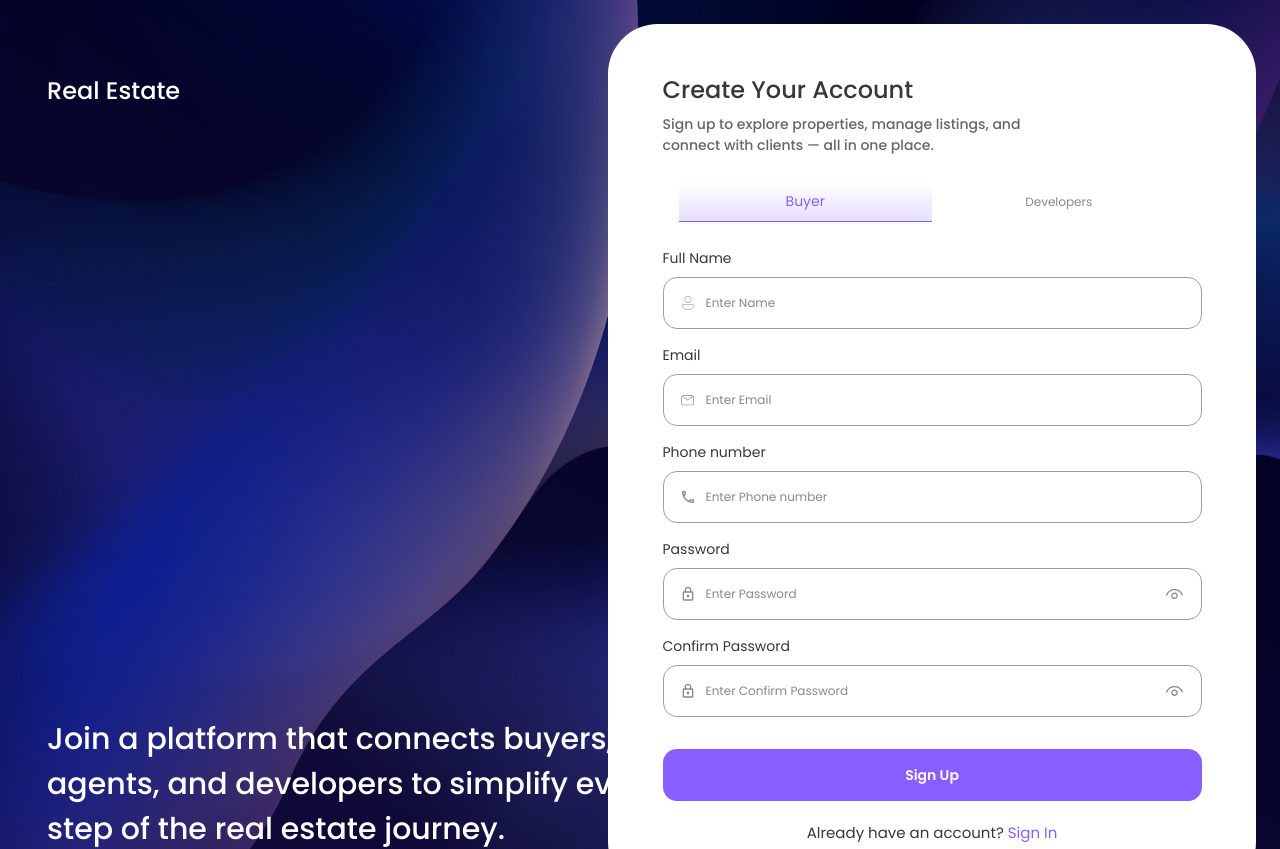
Test: SignUpPage › shows the shared "required" message under every empty field and sends nothing
Click the button "Sign Up" at x=932, y=775, box [662, 749, 1202, 801]
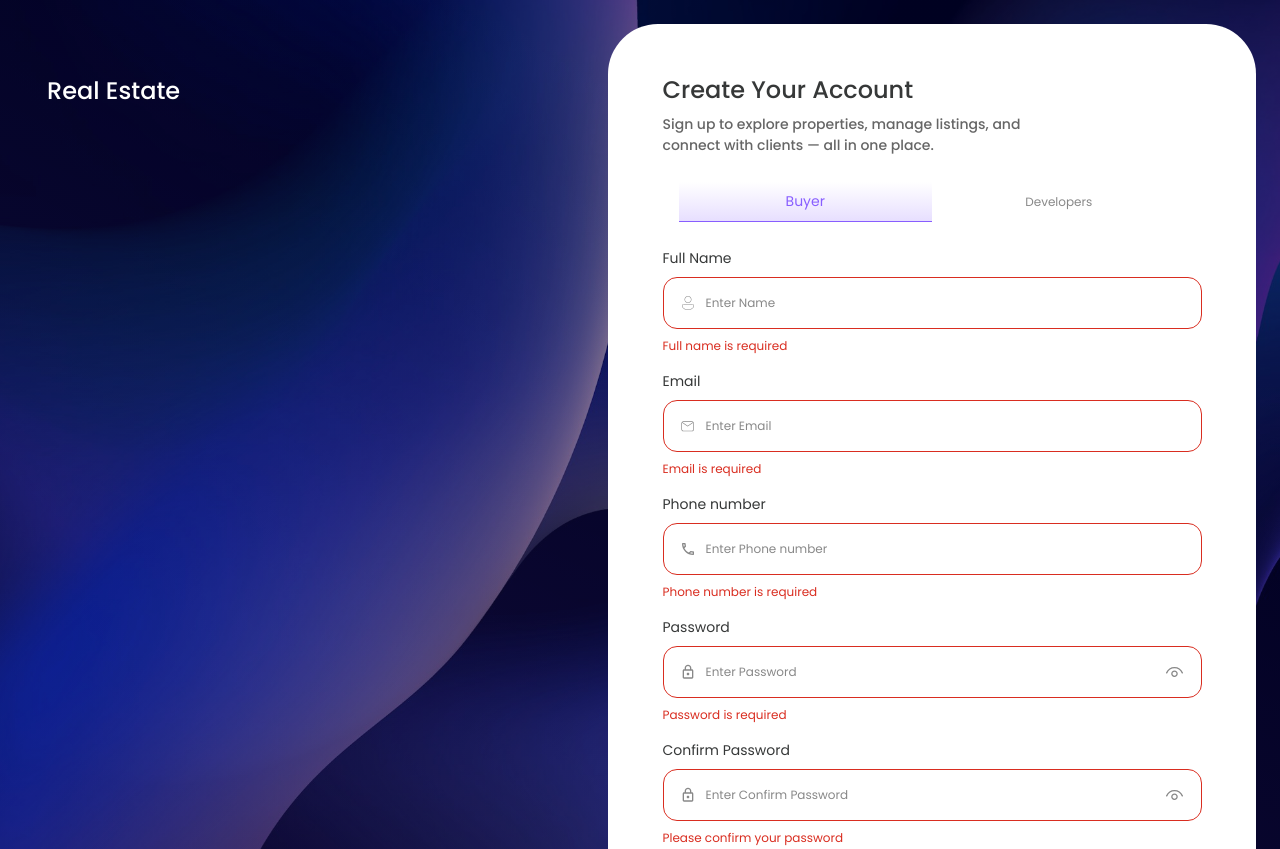
Now the text "Full name is required" is shown, box [662, 337, 787, 354]
